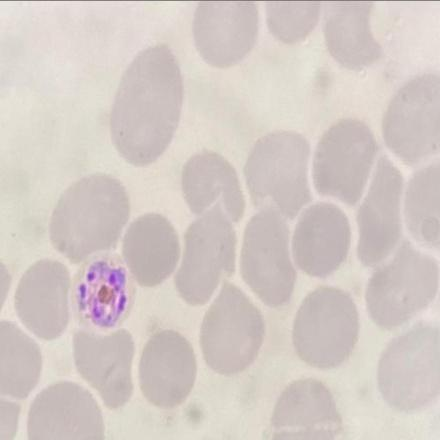Infected: (69, 256, 133, 335)
Uninfected: (110, 45, 184, 166), (46, 175, 124, 261), (180, 194, 237, 307), (368, 240, 438, 332), (376, 317, 440, 416), (239, 197, 296, 307), (358, 149, 407, 272), (242, 133, 310, 220), (311, 119, 376, 208), (200, 280, 262, 373), (294, 287, 360, 367), (72, 331, 136, 412), (384, 73, 440, 165), (138, 326, 199, 409), (182, 149, 244, 226), (190, 0, 258, 69), (119, 214, 179, 289), (16, 258, 69, 342), (28, 383, 105, 440), (290, 201, 347, 277), (274, 376, 339, 440)
